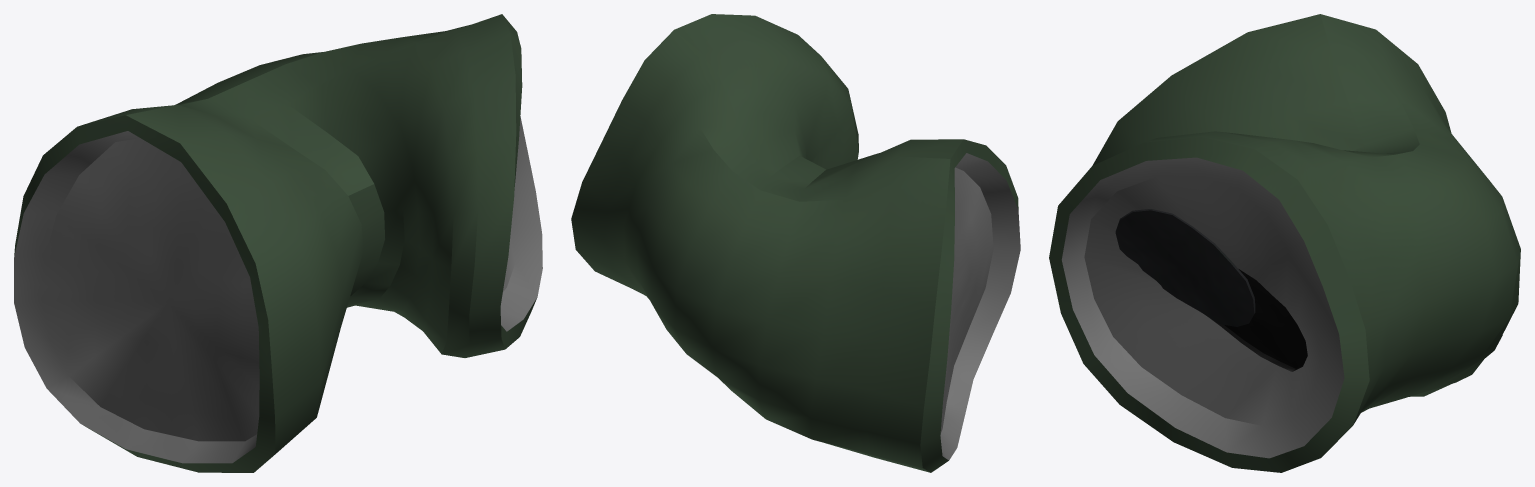
Rendered from Lata verde.fbx.
3 views of the same model, side by side, from view 1: azimuth 30°, elevation 25°; view 2: azimuth 150°, elevation 25°; view 3: azimuth 270°, elevation 25° (orthographic). The views are drawn at different scales.
Parts seen in each view (by area): view 1: Lata; view 2: Lata; view 3: Lata.
Part boxes in pixels (x1,y1,x2,y2): Lata: (14, 14, 542, 472); Lata: (571, 14, 1020, 472); Lata: (1049, 14, 1520, 472).
Size of the model in its own units: 19.79 by 15.58 by 16.41.
